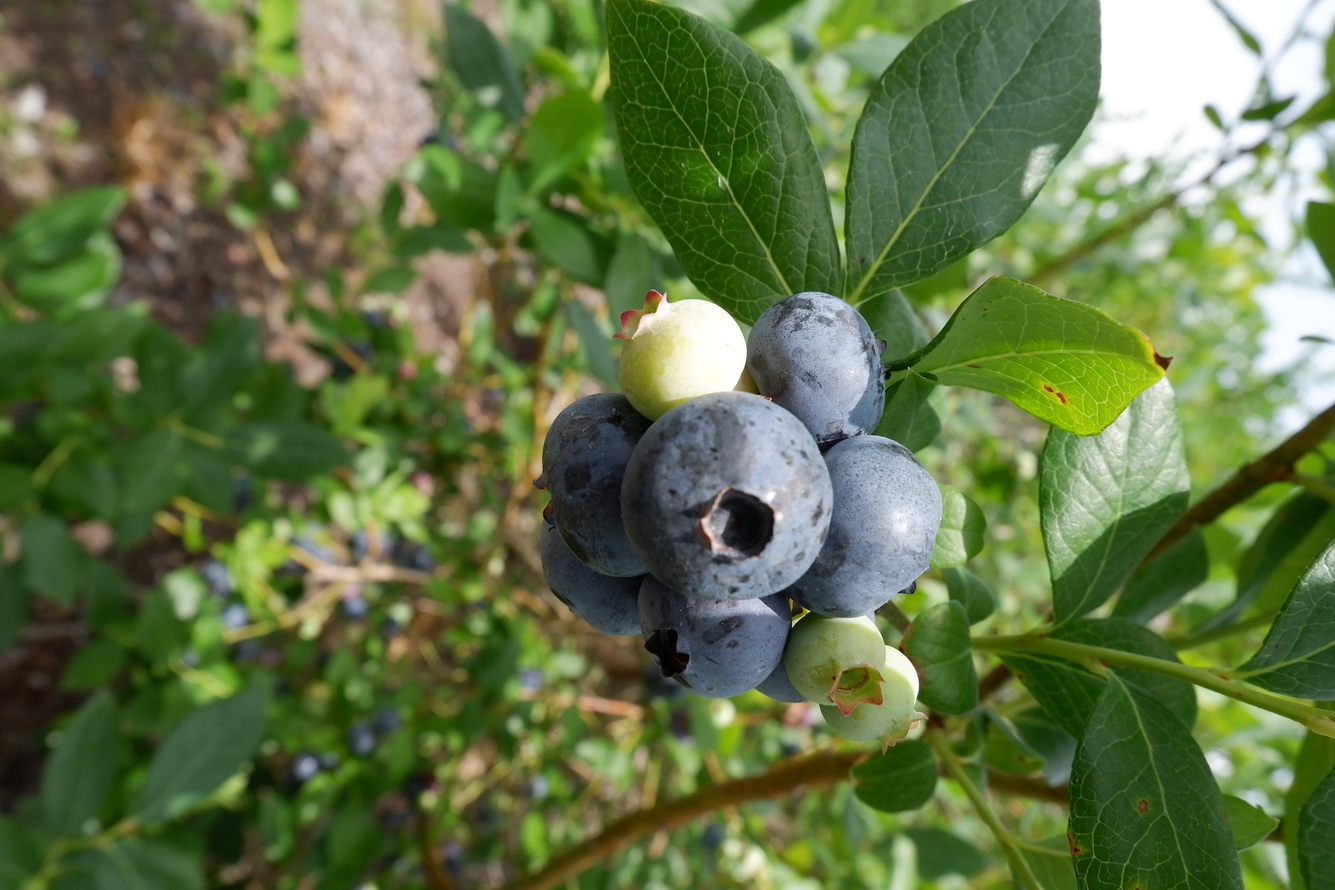Immature: (620, 293, 744, 417), (819, 645, 922, 756), (787, 614, 883, 717)
Mature: (622, 396, 835, 599), (794, 437, 937, 615), (541, 393, 652, 576), (752, 294, 884, 444), (640, 583, 789, 696), (541, 518, 645, 634), (759, 617, 803, 700)
